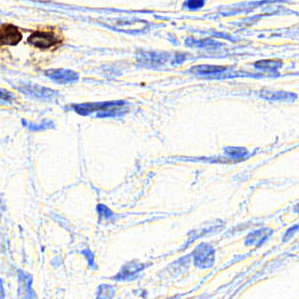Lymphocyte: (26, 29, 65, 50)
